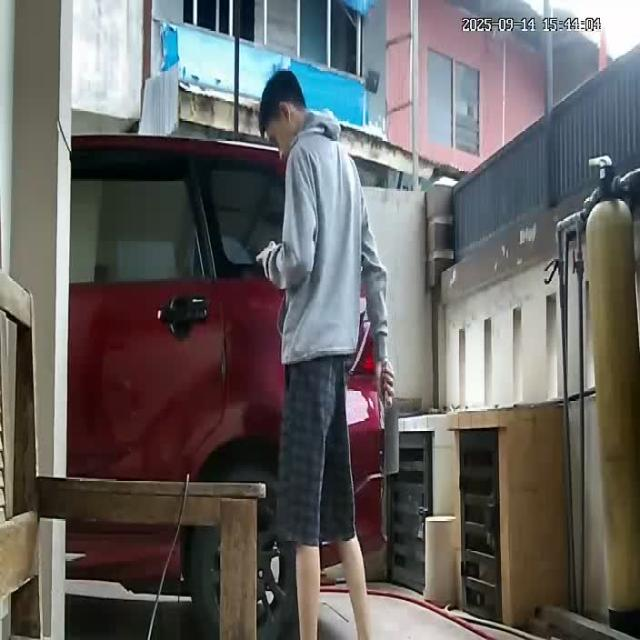senjata_tajam: (381, 404, 402, 478)
